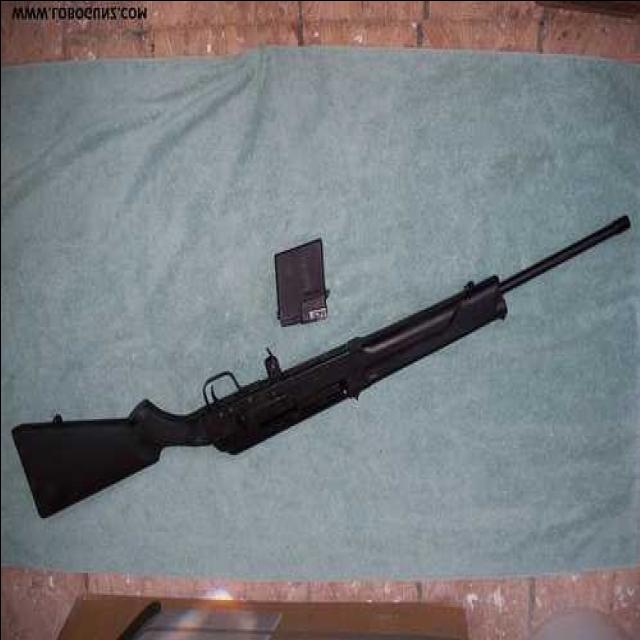heavyweapon: (1, 189, 636, 554)
